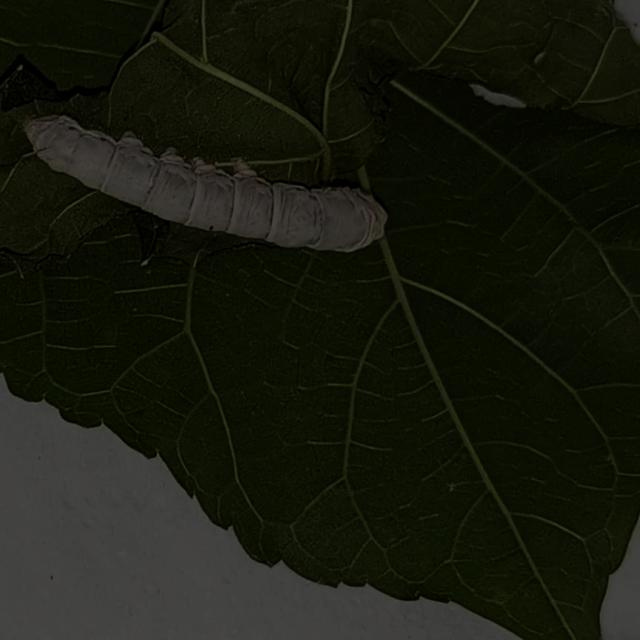Healthy: (14, 73, 406, 269)
